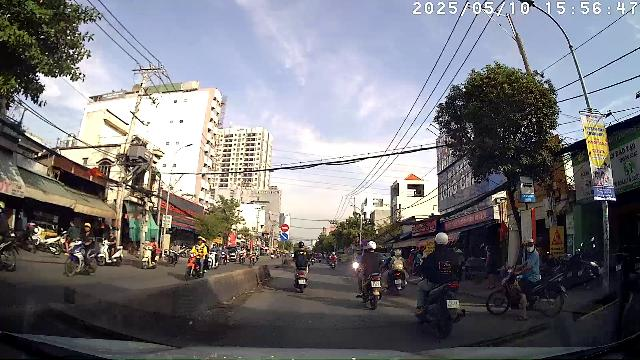102-cam-di-nguoc-chieu: (281, 224, 289, 232)
302a-huong-phai-di-vong-chuong-ngai-vat-1: (280, 233, 288, 241)
